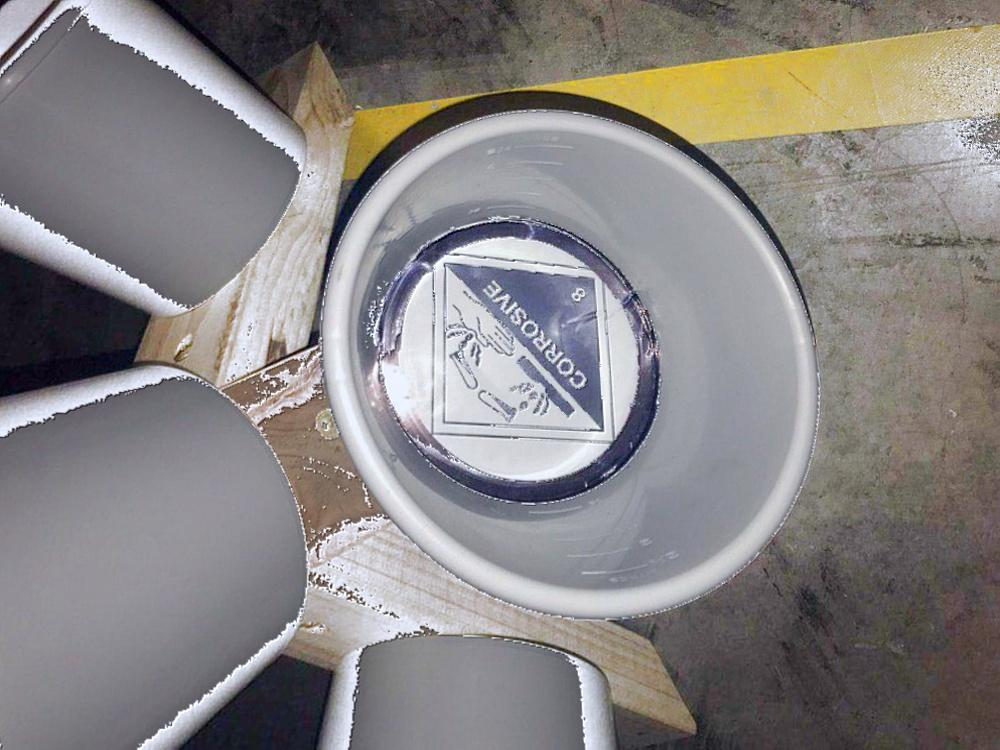corrosive: (431, 252, 620, 446)
